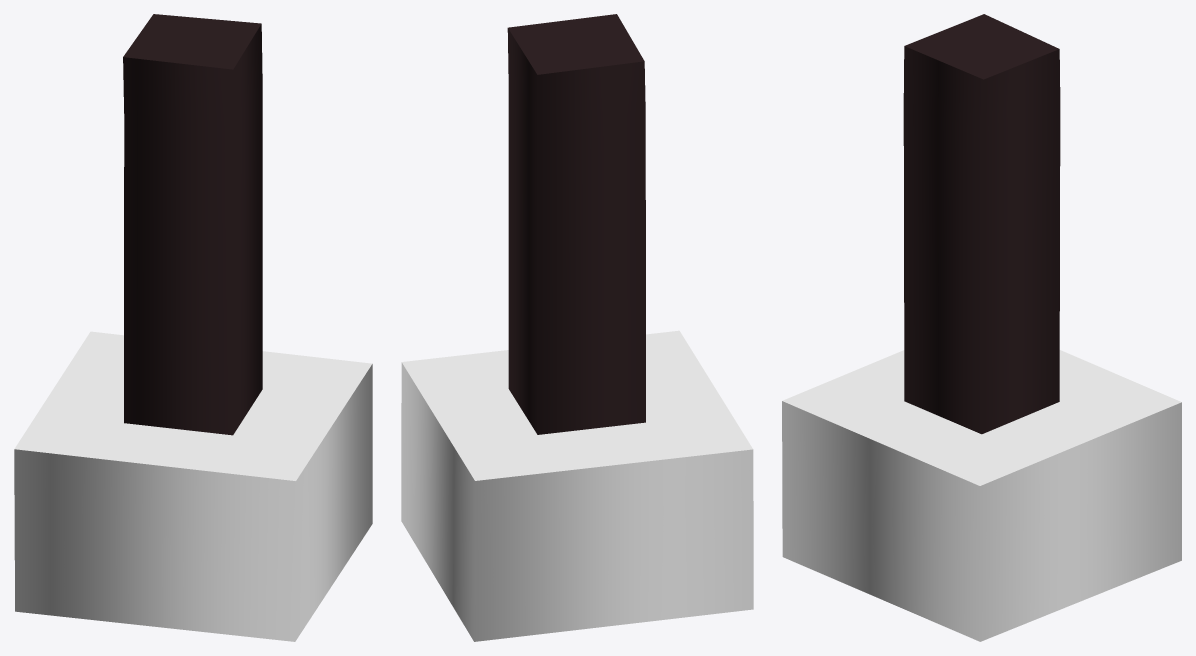
Rendered from LimbShin.obj.
3 views of the same model, side by side, from view 1: azimuth 30°, elevation 25°; view 2: azimuth 150°, elevation 25°; view 3: azimuth 270°, elevation 25° (orthographic). The views are drawn at different scales.
Size of the model in its own units: 0.9066 by 1.28 by 0.9058.
2 materials, 2 textured.
